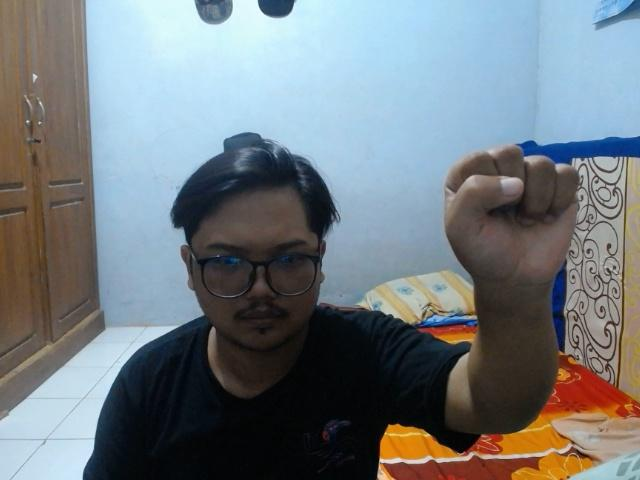Grab: (440, 138, 584, 292)
